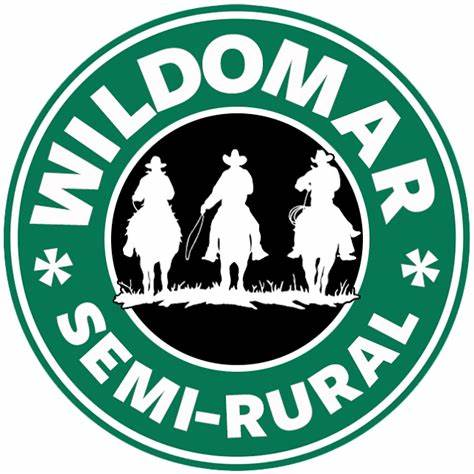starbucks Fake: (4, 3, 471, 474)
